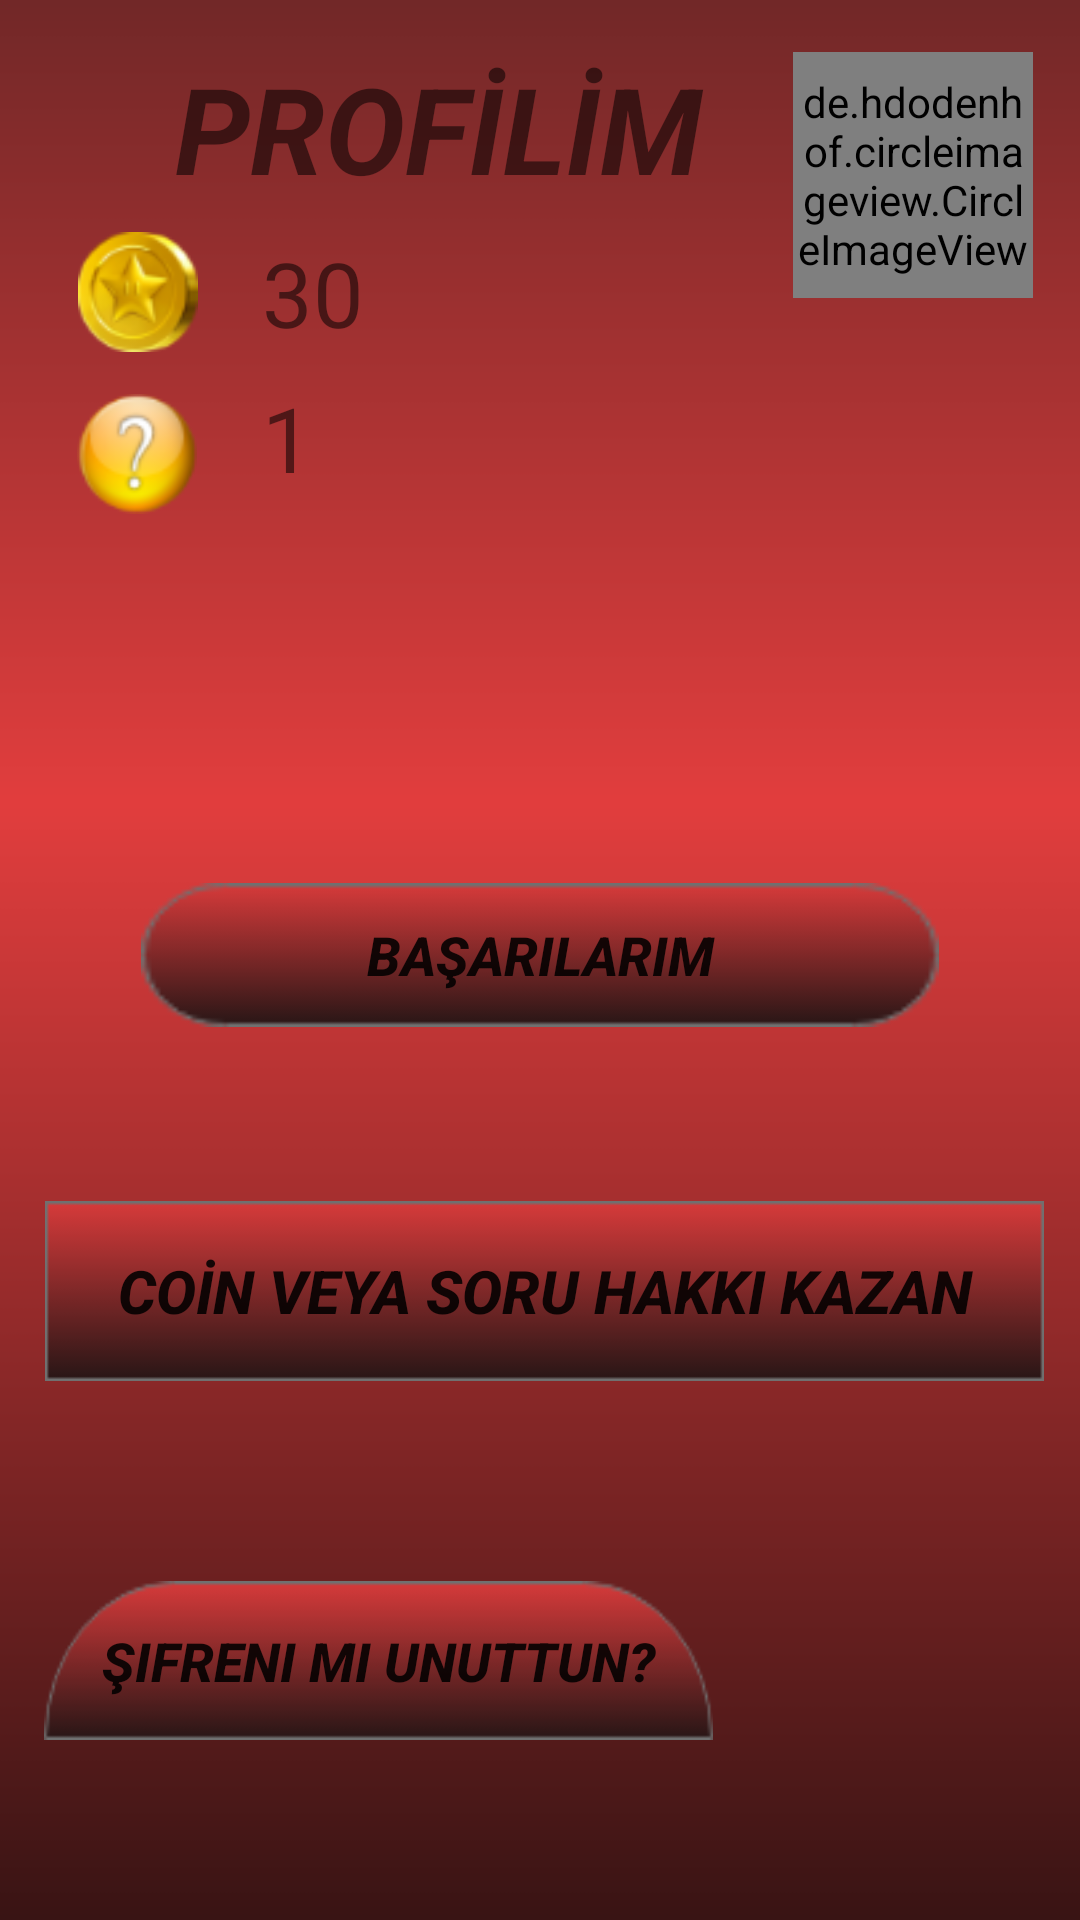

Named icons in this screenshot (1080 × 1920) and their centers, point (x, y):
coin: point (138, 292)
soru: point (137, 453)
